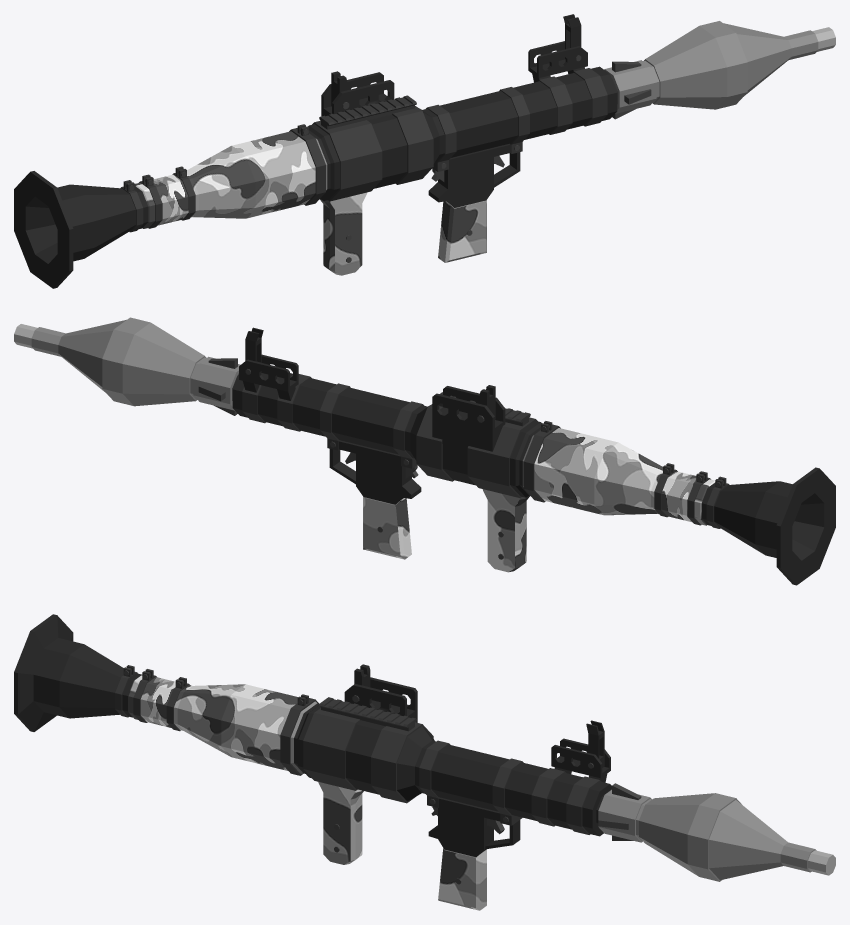
The picture shows the model from 3 angles, top to bottom: view 1: azimuth 30°, elevation 25°; view 2: azimuth 150°, elevation 25°; view 3: azimuth 330°, elevation 25°; orthographic projection.
Visible parts, largest first — view 1: HW_01_C2_5; view 2: HW_01_C2_5; view 3: HW_01_C2_5.
Part boxes in pixels (left/top/right/bottom): HW_01_C2_5: left=14, top=14, right=835, bottom=288; HW_01_C2_5: left=14, top=317, right=835, bottom=585; HW_01_C2_5: left=14, top=614, right=835, bottom=910.
Bounding box in the file's own units: 1.12 × 0.2706 × 0.1355.
